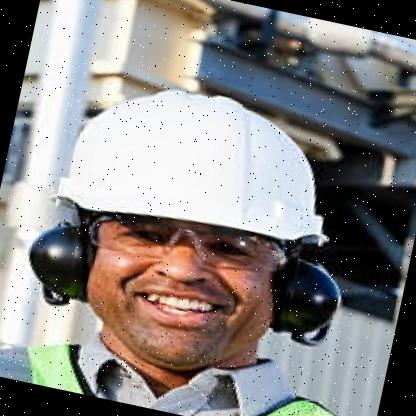capacete: (50, 62, 344, 248)
oculos: (72, 200, 294, 286)
